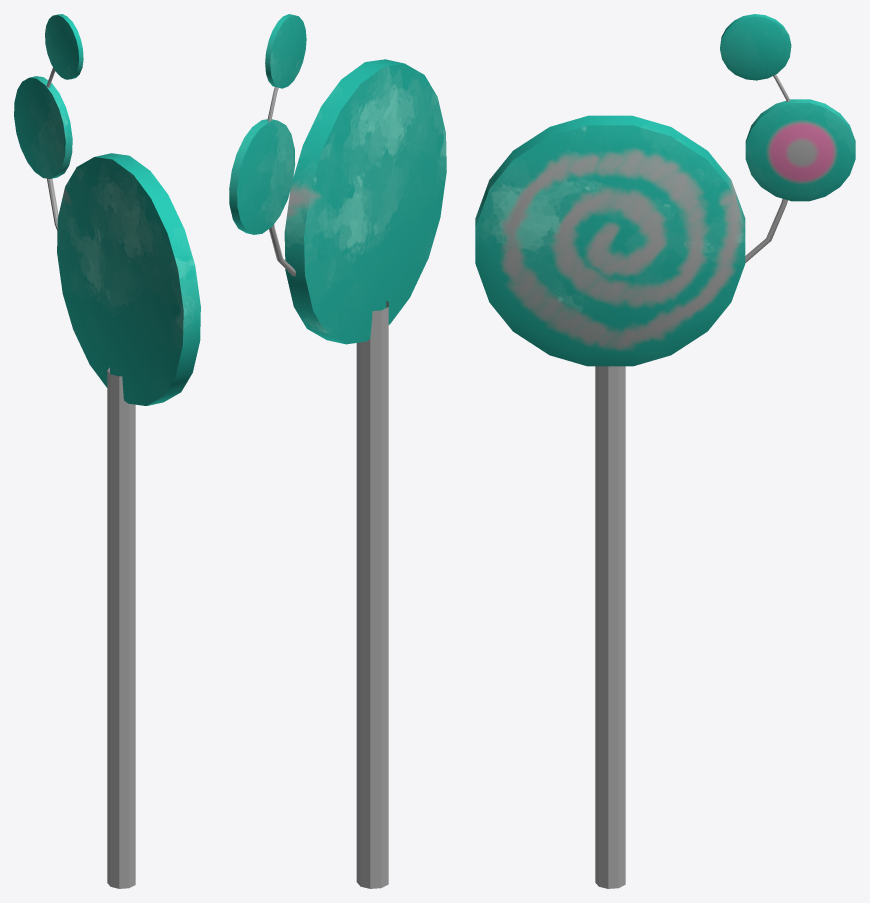
The model's file is piruleta arbol 2.fbx.
3 renders of one model, left to right at view 1: azimuth 30°, elevation 25°; view 2: azimuth 150°, elevation 25°; view 3: azimuth 270°, elevation 25°, orthographic. The views are drawn at different scales.
Visible parts, largest first — view 1: Cylinder.013; view 2: Cylinder.013; view 3: Cylinder.013.
Boxes of the visible parts, x1=… form: Cylinder.013: x1=14, y1=14, x2=200, y2=888; Cylinder.013: x1=229, y1=14, x2=446, y2=888; Cylinder.013: x1=475, y1=14, x2=855, y2=888.
Size of the model in its own units: 29.38 by 566 by 223.
